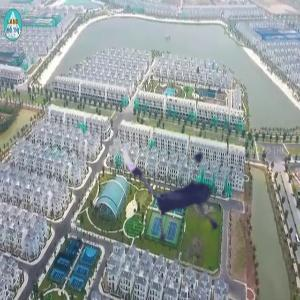drone: (110, 111, 258, 259)
